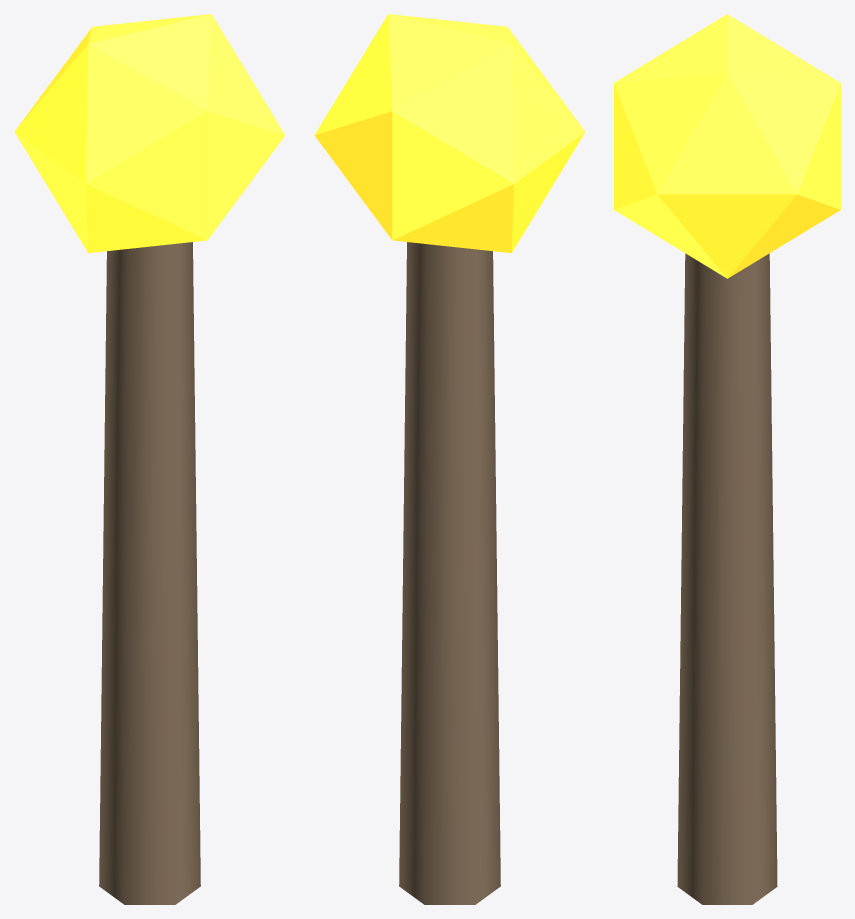
Rendered from torch.glb.
3 views of the same model, side by side, from view 1: azimuth 30°, elevation 25°; view 2: azimuth 150°, elevation 25°; view 3: azimuth 270°, elevation 25° (orthographic).
Visible parts, largest first — view 1: torch; view 2: torch; view 3: torch.
Part boxes in pixels (x1,y1,x2,y2): torch: (14,14,285,904); torch: (314,14,585,904); torch: (614,14,840,904).
Bounding box in the file's own units: 0.2722 × 1.12 × 0.2722.
